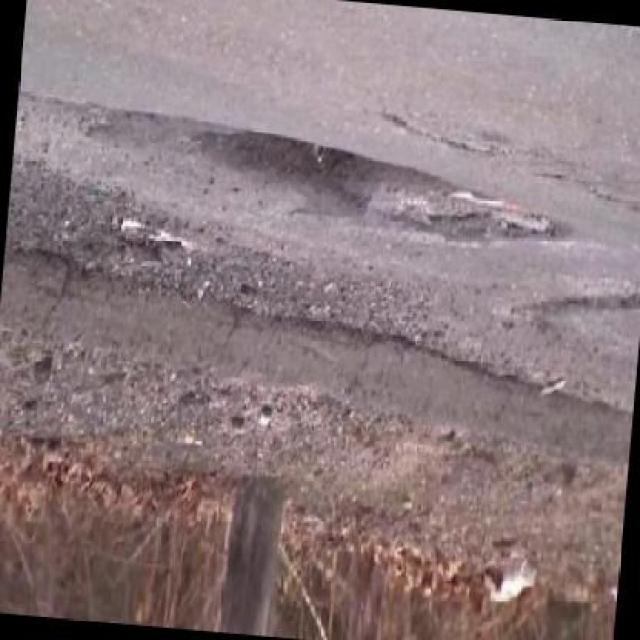pothole1: (192, 122, 574, 260)
